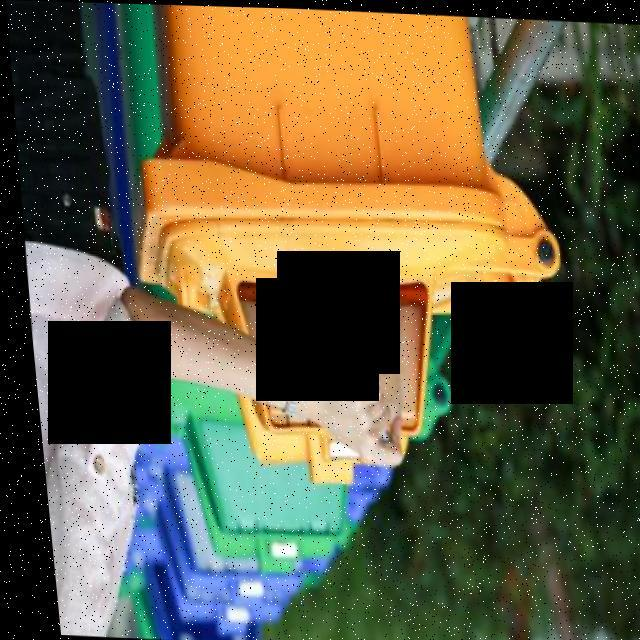bin: (97, 2, 571, 355)
